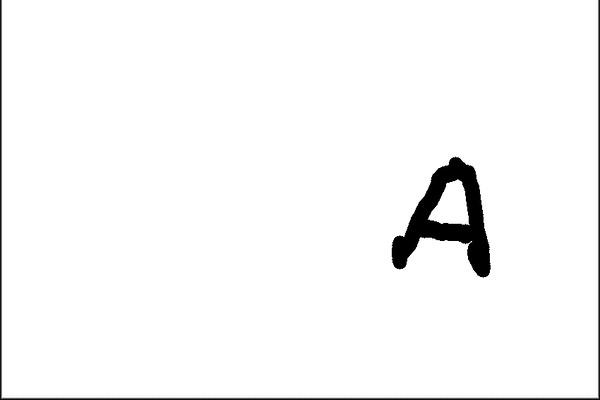A: (376, 148, 497, 279)
